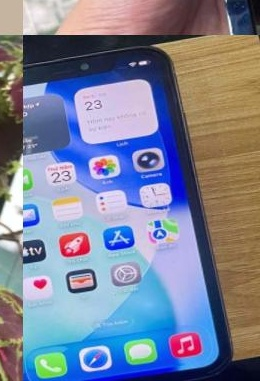scratch: (217, 0, 259, 35)
